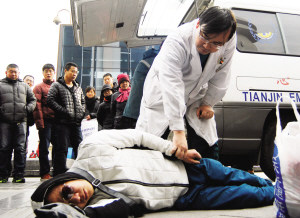fall: (26, 122, 280, 216)
